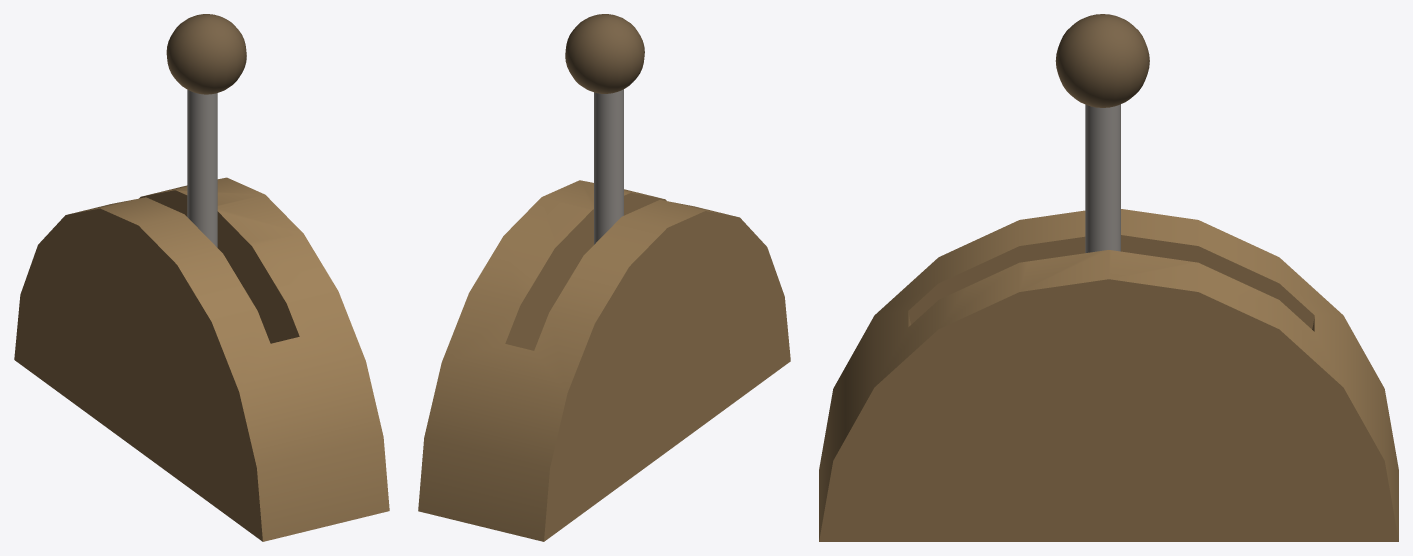
File: lever.fbx
3 views of the same model, side by side, from view 1: azimuth 30°, elevation 25°; view 2: azimuth 150°, elevation 25°; view 3: azimuth 270°, elevation 25° (orthographic). The views are drawn at different scales.
Visible parts, largest first — view 1: pCylinder3, pSphere2; view 2: pCylinder3, pSphere2; view 3: pCylinder3, pSphere2.
Part boxes in pixels (x1,y1,x2,y2): pCylinder3: (14, 177, 389, 541); pSphere2: (166, 14, 246, 247); pCylinder3: (418, 180, 790, 541); pSphere2: (565, 14, 644, 244); pCylinder3: (819, 209, 1398, 541); pSphere2: (1055, 14, 1149, 252).
Size of the model in its own units: 50.98 by 161 by 173.
